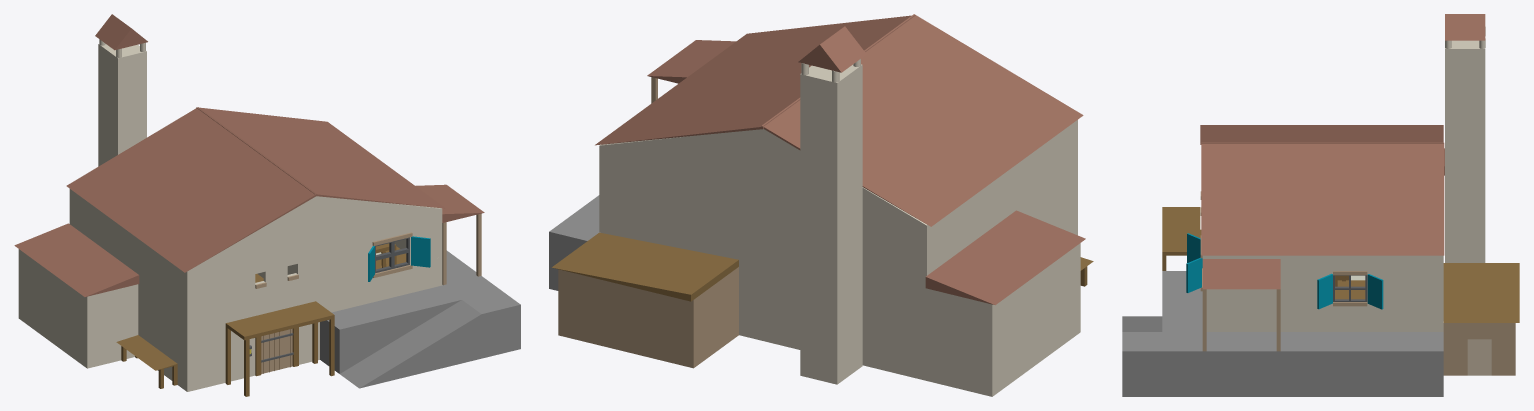
File: Homebotw.glb
3 renders of one model, left to right at view 1: azimuth 30°, elevation 25°; view 2: azimuth 150°, elevation 25°; view 3: azimuth 270°, elevation 25°, orthographic. The views are drawn at different scales.
Visible parts, largest first — view 1: Mesh_Mesh_head_geo.001_lambert2SG.001; view 2: Mesh_Mesh_head_geo.001_lambert2SG.001; view 3: Mesh_Mesh_head_geo.001_lambert2SG.001.
Boxes of the visible parts, <box> form: Mesh_Mesh_head_geo.001_lambert2SG.001: <box>14,14,520,396</box>; Mesh_Mesh_head_geo.001_lambert2SG.001: <box>549,14,1093,396</box>; Mesh_Mesh_head_geo.001_lambert2SG.001: <box>1122,14,1519,396</box>.
Size of the model in its own units: 0.207 by 0.1472 by 0.198.
